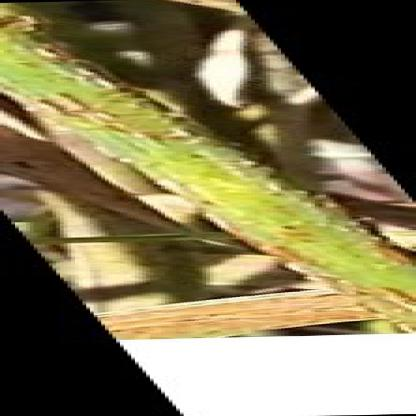wheat Stem Rust: (63, 80, 148, 128), (117, 143, 249, 173), (229, 220, 384, 245)
